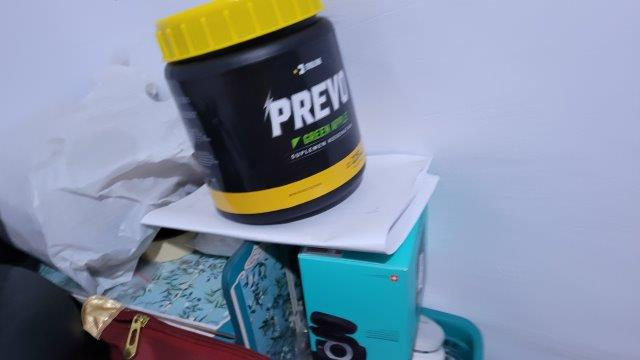kertas: (144, 153, 440, 256)
